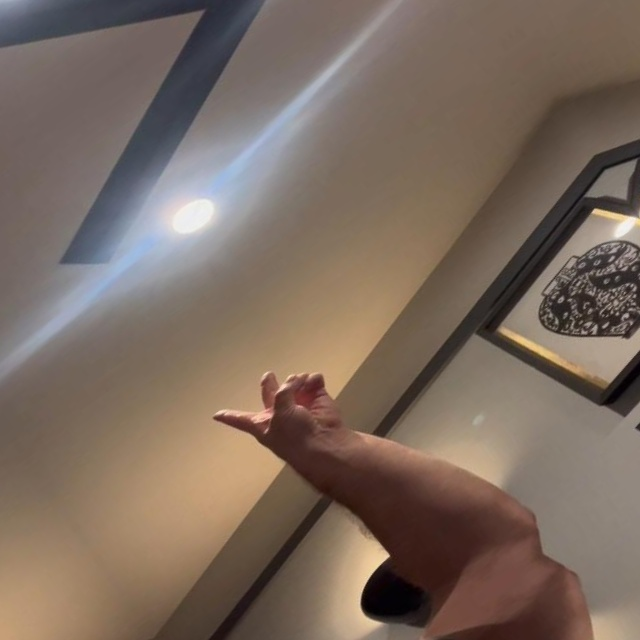Scissors: (208, 342, 353, 479)
